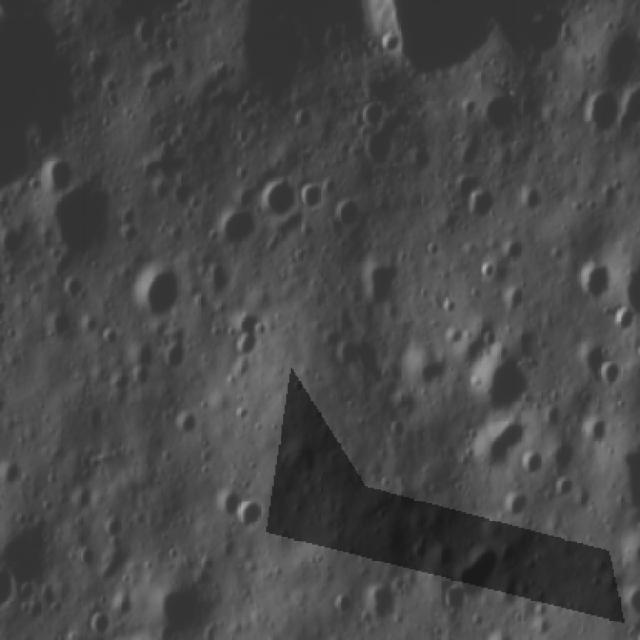crater: (377, 0, 583, 92), (43, 160, 134, 266), (436, 535, 504, 623), (127, 252, 196, 331), (158, 571, 233, 640), (468, 346, 530, 422), (473, 412, 521, 488), (205, 200, 264, 254), (258, 170, 308, 221), (578, 87, 624, 141), (366, 581, 408, 628), (592, 350, 631, 399), (466, 177, 496, 235), (232, 488, 266, 537), (572, 258, 608, 302), (581, 414, 613, 457), (295, 182, 327, 216)
